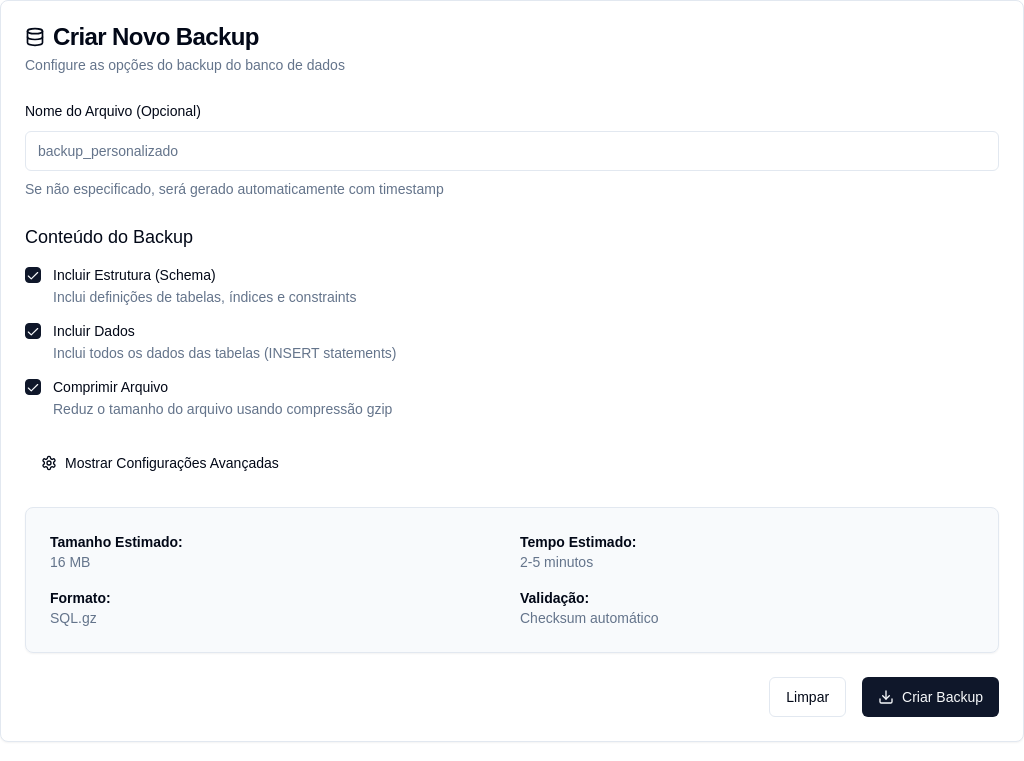
CreateBackupForm › deve mostrar configurações avançadas quando clicado
Click the button "Mostrar Configurações Avançadas".
click(160, 463)  # box left=25, top=443, right=295, bottom=483
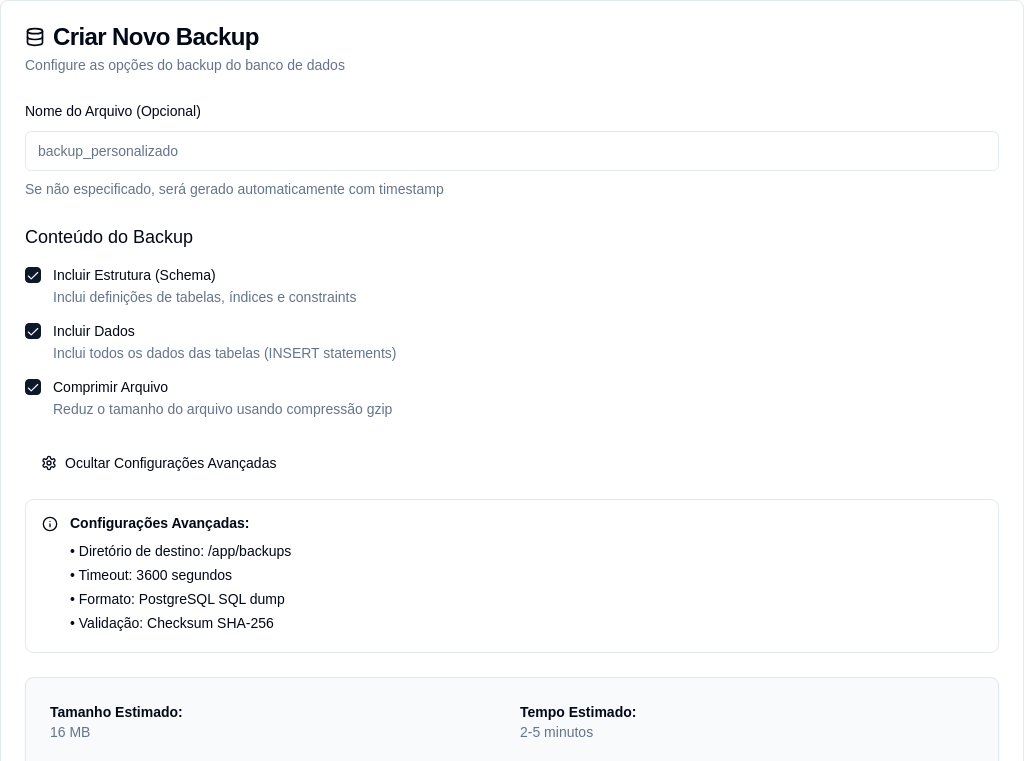
Now the text "Configurações Avançadas:" is shown, box left=70, top=515, right=250, bottom=531
Now the list item "• Diretório de destino: /app/backups" is shown, box left=70, top=543, right=291, bottom=559
